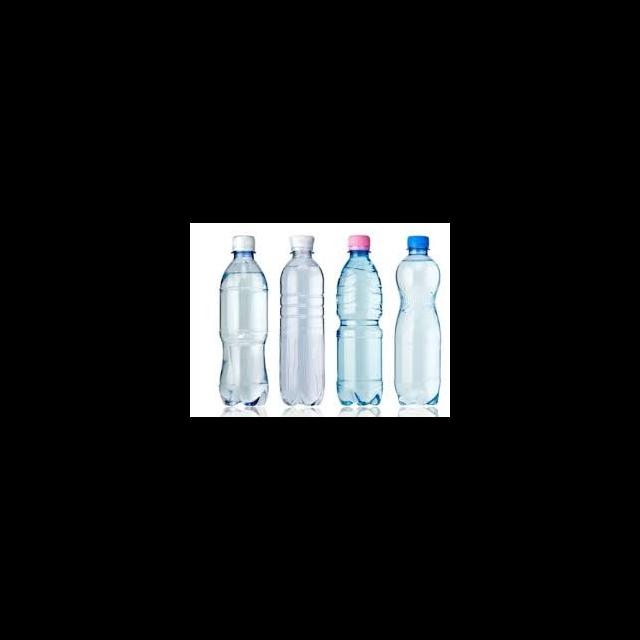plastic: (219, 234, 267, 405), (393, 235, 440, 404), (336, 234, 382, 404), (279, 234, 323, 405), (287, 235, 314, 250), (231, 234, 254, 251), (347, 234, 370, 250), (406, 235, 429, 249)
